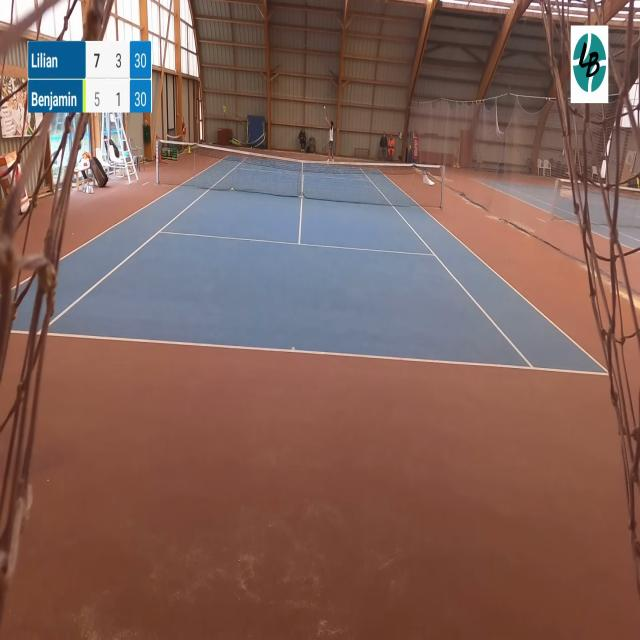ball: (230, 187, 233, 191), (324, 106, 325, 109)
